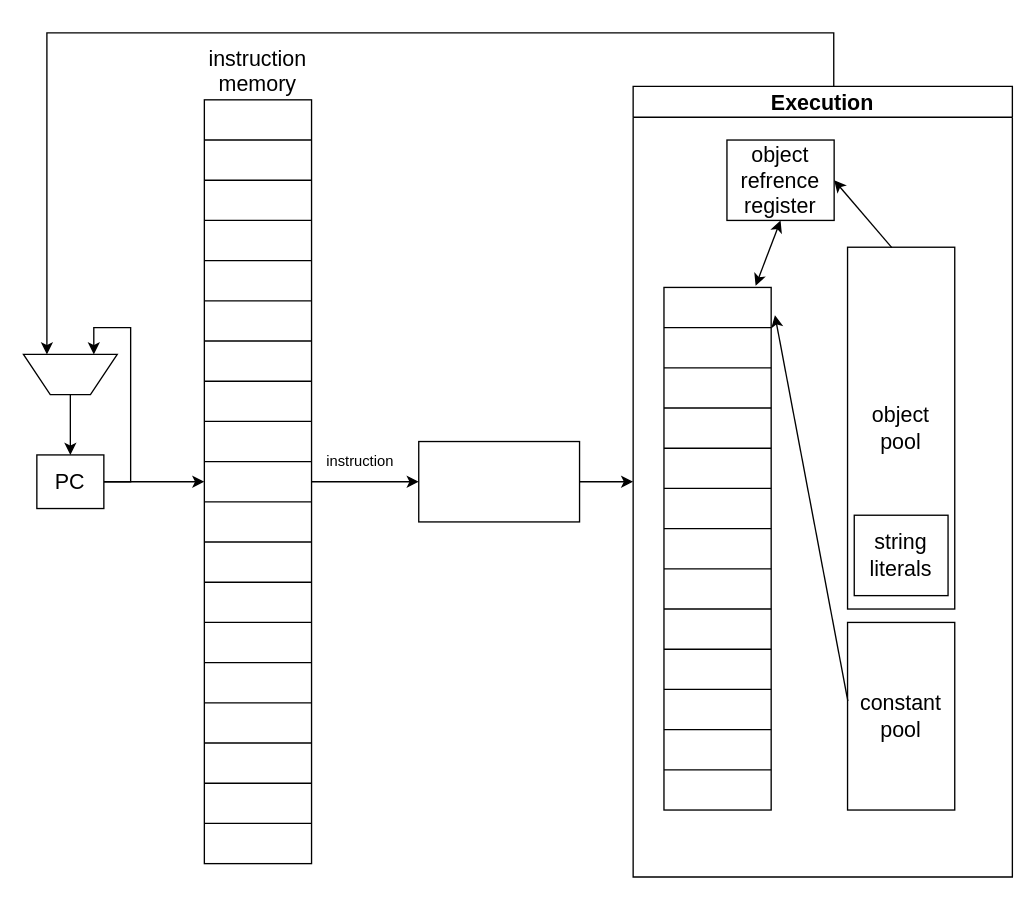
Image size: 1036x900. Some labels were removed from this diagram. The centre of each missing label's shape, as x and y in pixels:
"decode" belongs at (498,481).
"MUX" belongs at (69,374).
"operand stack" belongs at (717,548).
